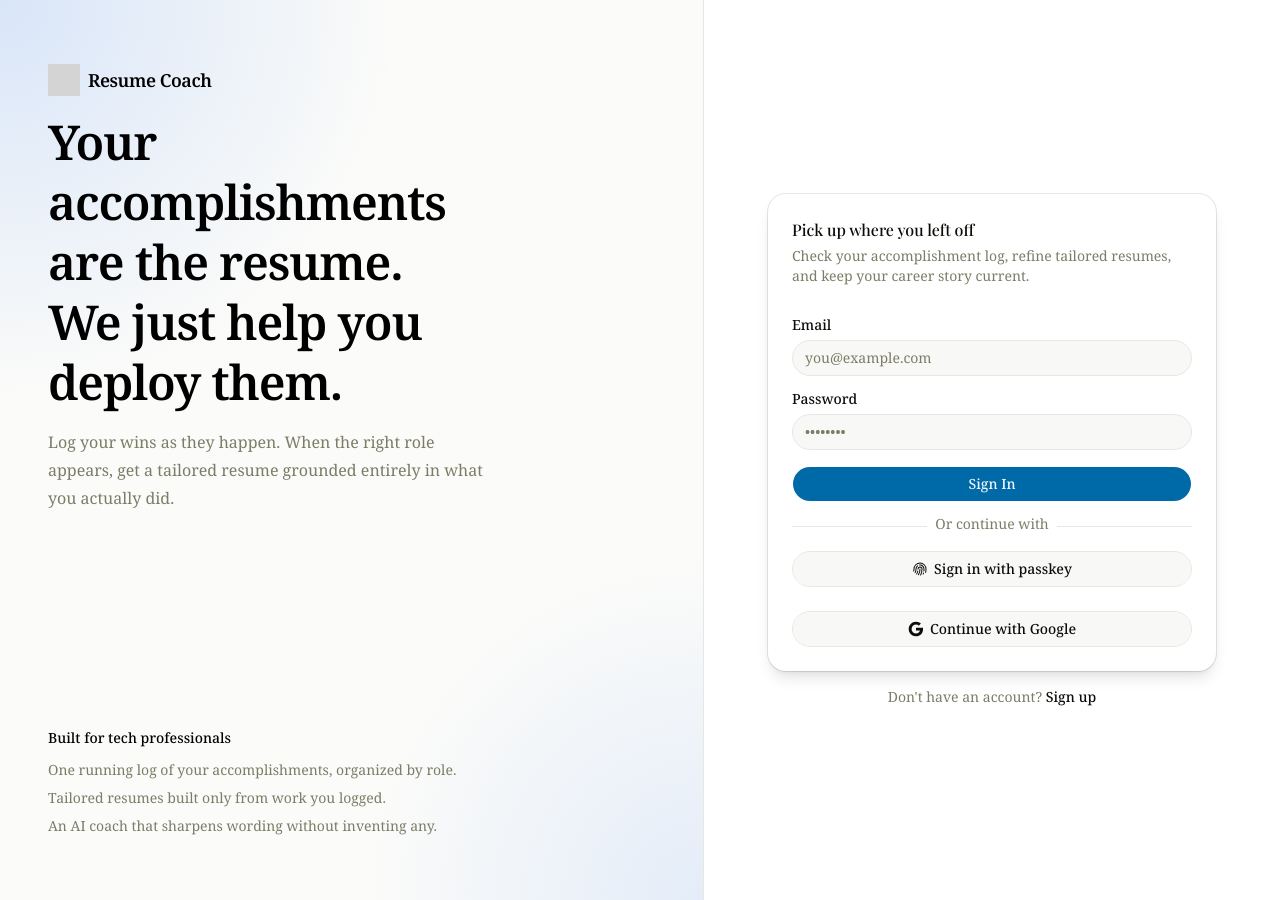
it: LoginPage › replaces a credential error with a classified alert
Type "test@example.com" into the field labelled "Email" at [992, 358], box top-left (792, 340), bottom-right (1192, 376)
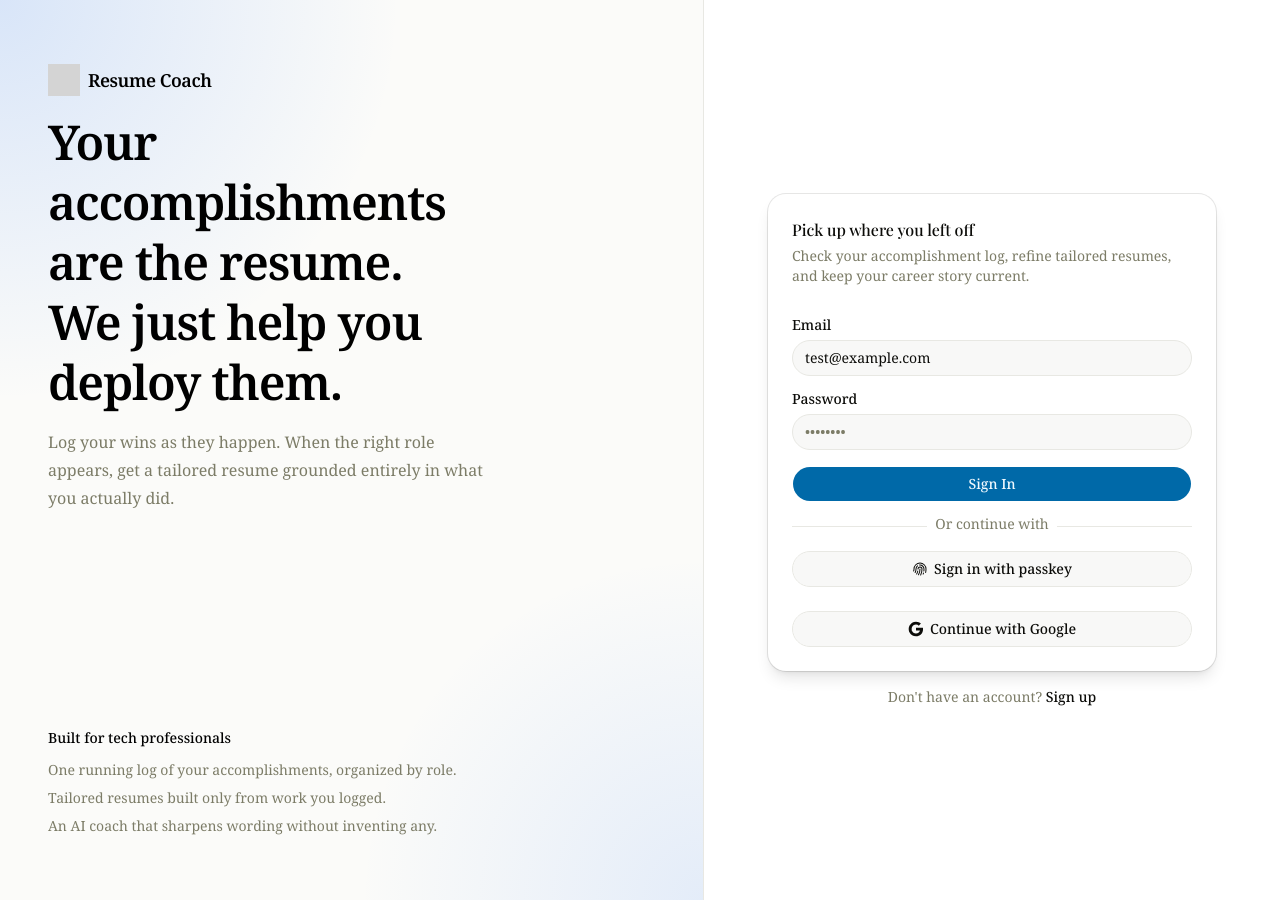
Type "wrongpassword" into the password field labelled "Password" at [992, 432], box top-left (792, 414), bottom-right (1192, 450)
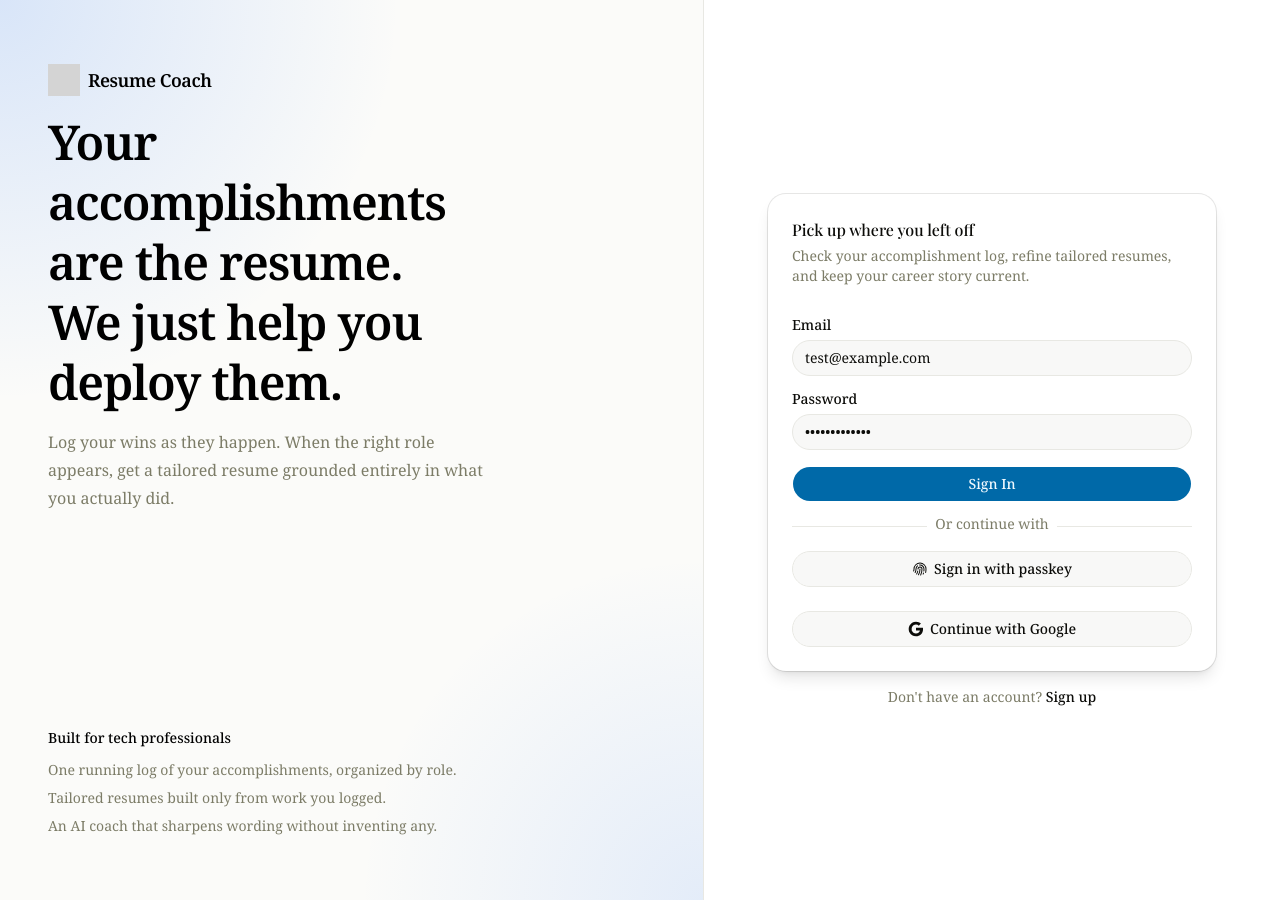
Click the button "Sign In" at [992, 484], box top-left (792, 466), bottom-right (1192, 502)
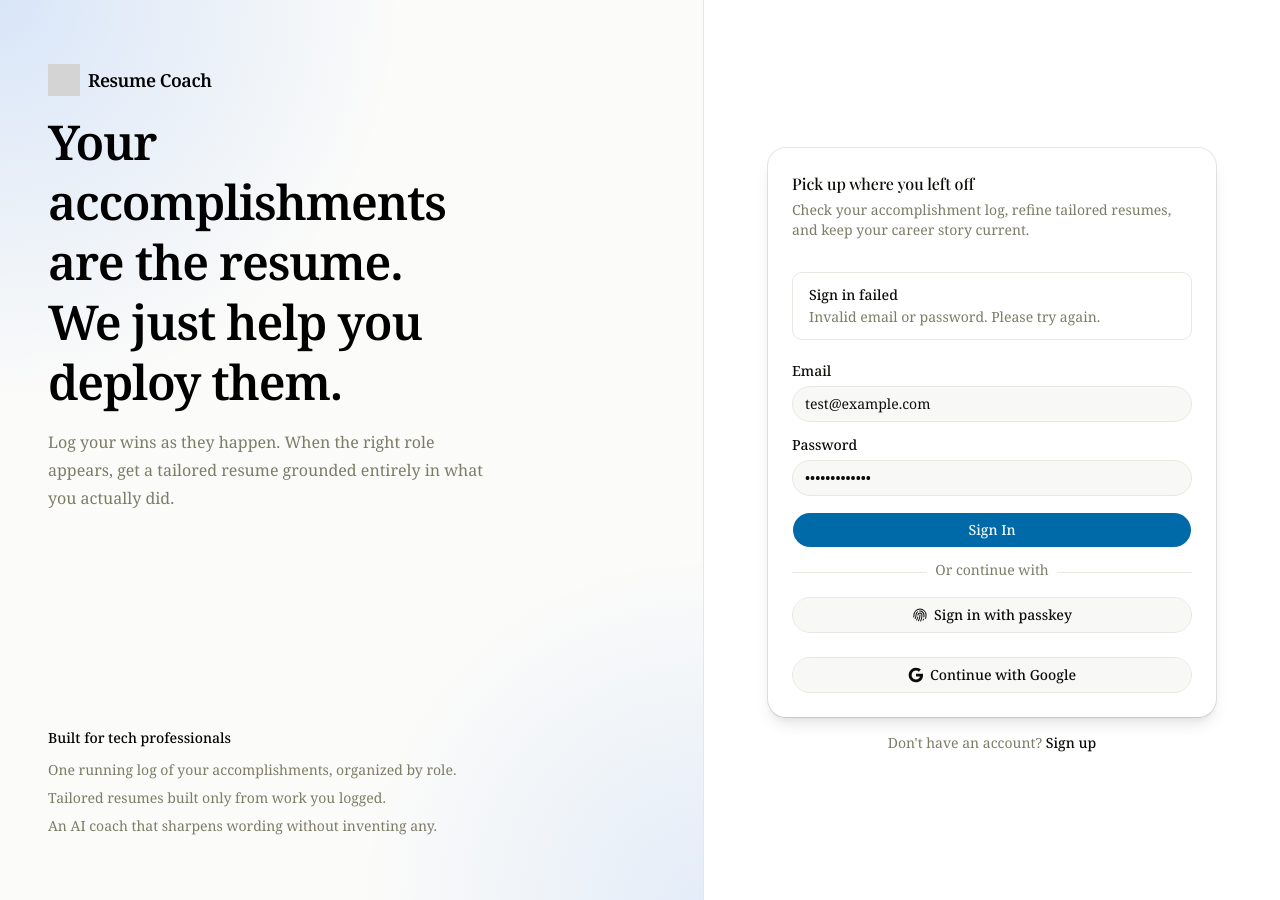
Now the message "Sign in failed Invalid email or password. Please try again." is shown, box top-left (792, 272), bottom-right (1192, 340)
